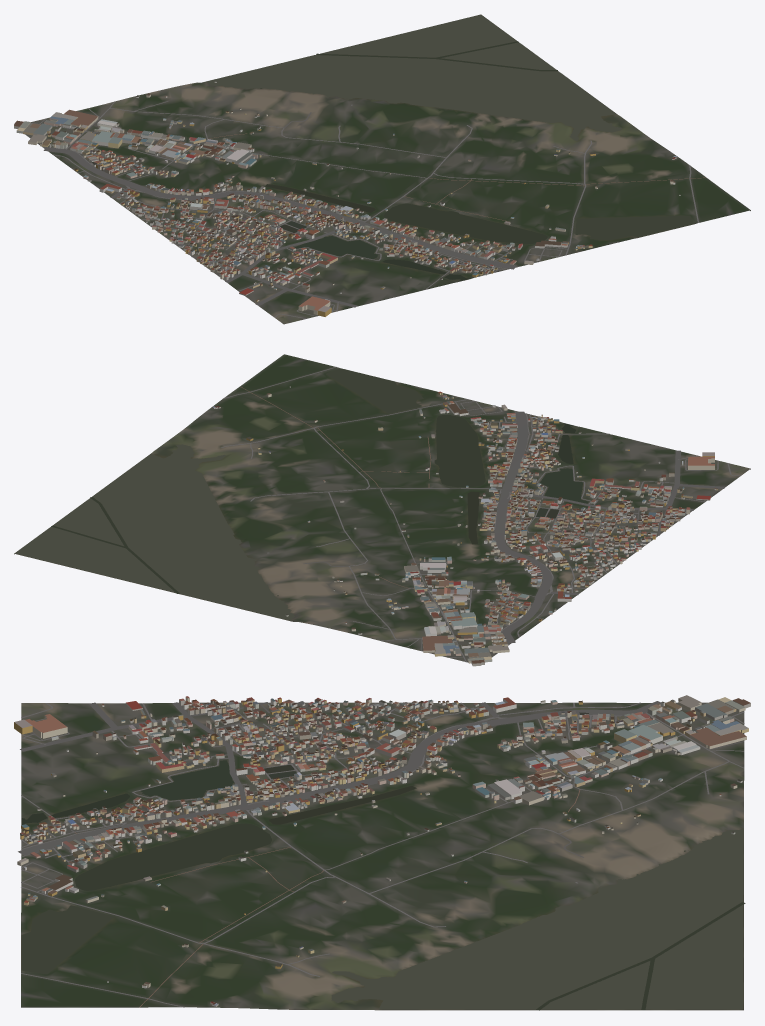
The picture shows the model from 3 angles, top to bottom: view 1: azimuth 30°, elevation 25°; view 2: azimuth 150°, elevation 25°; view 3: azimuth 270°, elevation 25°; orthographic projection. The views are drawn at different scales.
Visible parts, largest first — view 1: ground, water, buildings, roads; view 2: ground, water, buildings, roads; view 3: ground, water, buildings, roads.
Boxes of the visible parts, <box> form: ground: <box>25,14,750,324</box>; water: <box>203,14,693,281</box>; buildings: <box>14,81,680,316</box>; roads: <box>31,101,706,318</box>; ground: <box>14,354,750,662</box>; water: <box>15,368,588,620</box>; buildings: <box>212,386,717,666</box>; roads: <box>221,367,741,662</box>; ground: <box>21,702,744,1010</box>; water: <box>21,760,745,1010</box>; buildings: <box>14,695,750,1006</box>; roads: <box>18,701,744,1007</box>.
Bounding box in the file's own units: 1424 × 25.34 × 1429.
